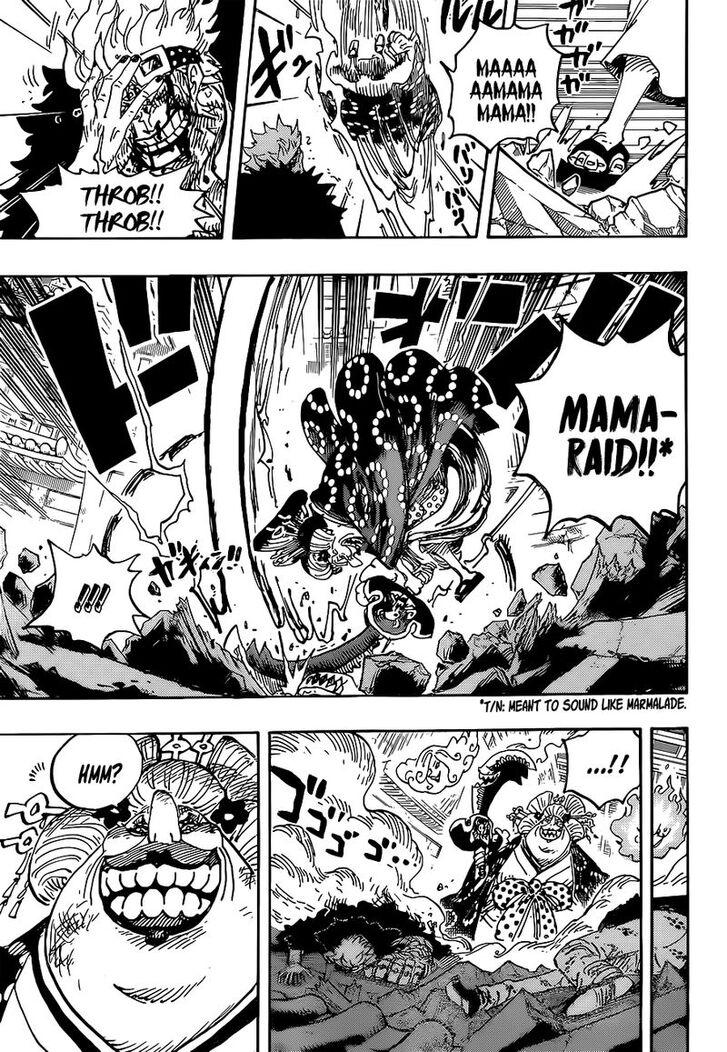Bubble: (510, 310, 689, 541), (439, 16, 567, 155), (17, 160, 216, 241), (22, 537, 152, 652), (50, 733, 144, 811), (560, 727, 642, 811)
